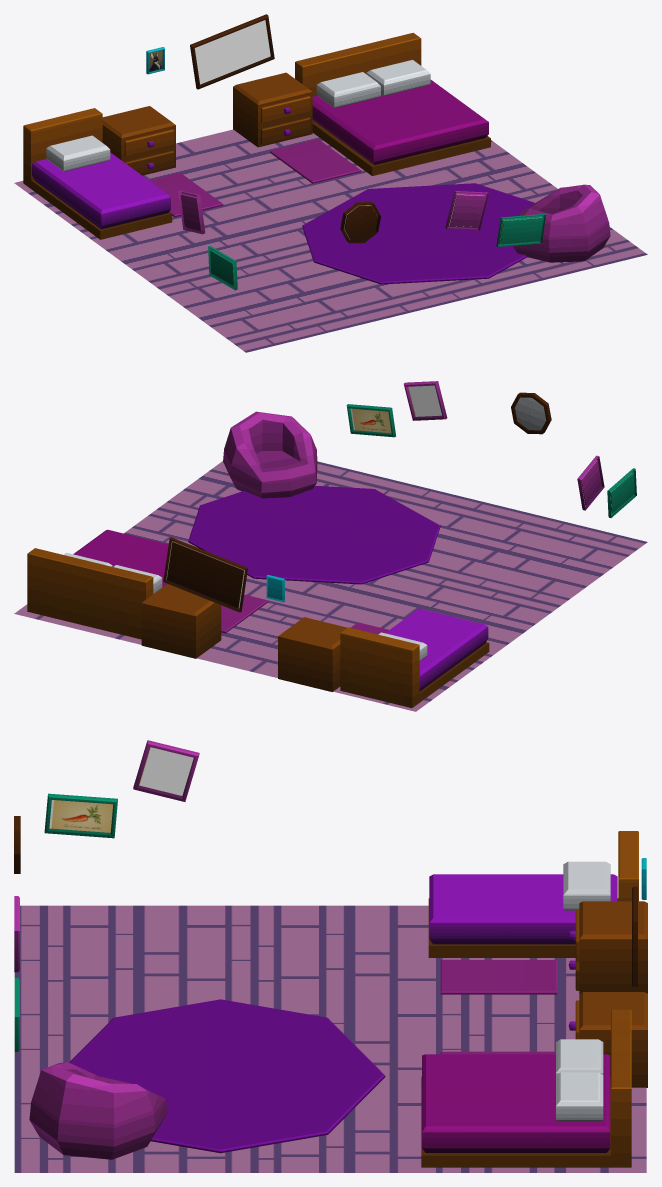
File: s1_Bedroom1_v2.fbx
The picture shows the model from 3 angles, top to bottom: view 1: azimuth 30°, elevation 25°; view 2: azimuth 150°, elevation 25°; view 3: azimuth 270°, elevation 25°; orthographic projection. The views are drawn at different scales.
Visible parts, largest first — view 1: s1_Bedroom1_v2; view 2: s1_Bedroom1_v2; view 3: s1_Bedroom1_v2.
Boxes of the visible parts, x1,y1,x2,y2 form: s1_Bedroom1_v2: (14,14,647,352); s1_Bedroom1_v2: (14,381,647,711); s1_Bedroom1_v2: (14,740,647,1172).
Size of the model in its own units: 900 by 261 by 903.
